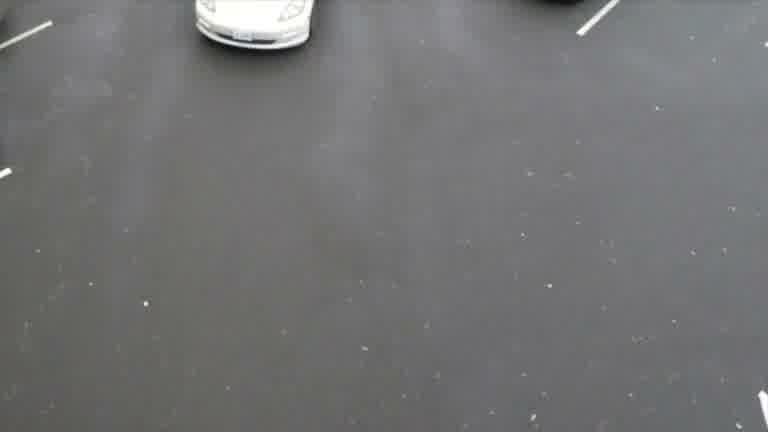car: (181, 1, 341, 56)
